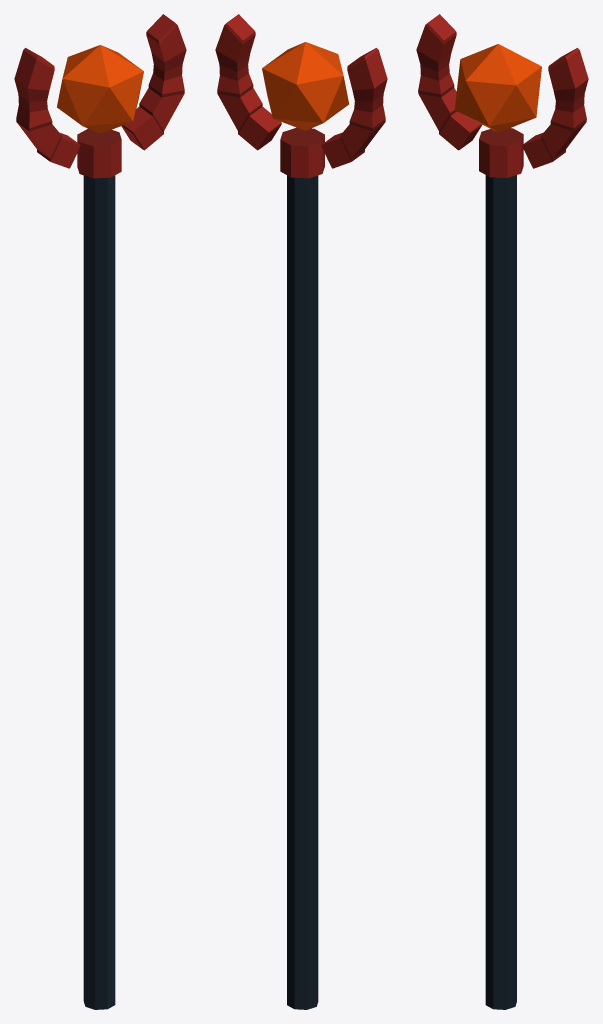
The model's file is Staff1.fbx.
3 renders of one model, left to right at view 1: azimuth 30°, elevation 25°; view 2: azimuth 150°, elevation 25°; view 3: azimuth 330°, elevation 25°, orthographic.
Parts seen in each view (by area): view 1: Cylinder.010; view 2: Cylinder.010; view 3: Cylinder.010.
Boxes of the visible parts, x1,y1,x2,y2 form: Cylinder.010: (14, 14, 186, 1009); Cylinder.010: (215, 14, 387, 1009); Cylinder.010: (416, 14, 588, 1009).
Size of the model in its own units: 0.2764 by 0.1258 by 1.61.
